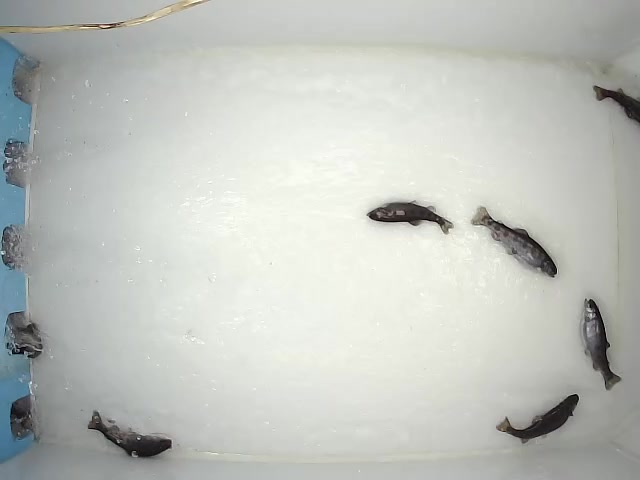fish: (468, 205, 558, 278), (495, 392, 581, 444), (87, 409, 173, 459), (580, 296, 623, 393), (366, 200, 455, 237)
